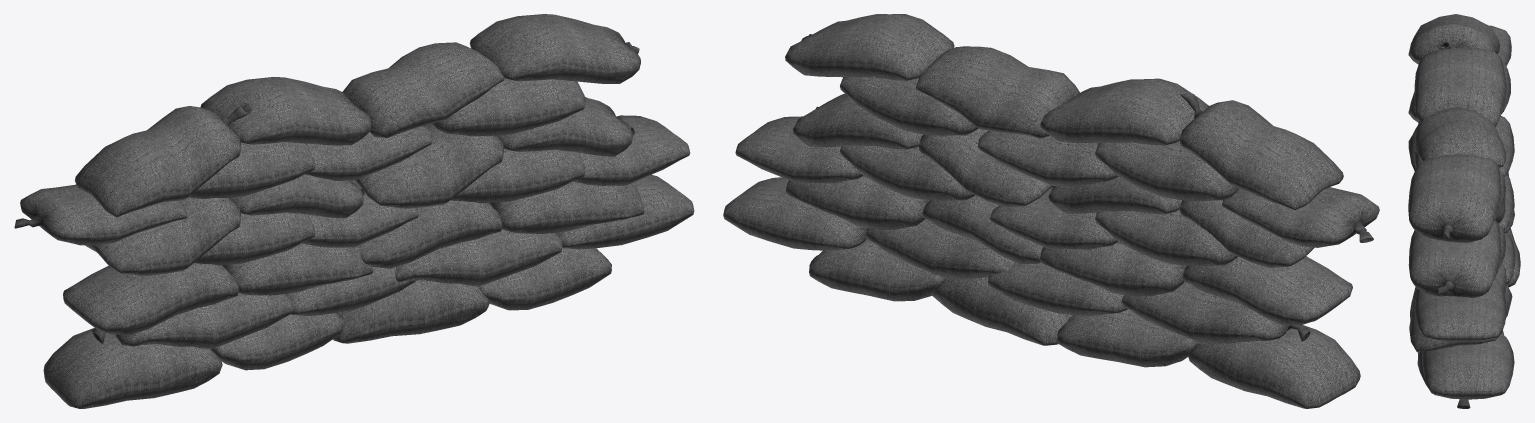
Rendered from sand_bag_long_big.fbx.
3 renders of one model, left to right at view 1: azimuth 30°, elevation 25°; view 2: azimuth 150°, elevation 25°; view 3: azimuth 270°, elevation 25°, orthographic. The views are drawn at different scales.
Parts seen in each view (by area): view 1: main_mesh; view 2: main_mesh; view 3: main_mesh.
Part boxes in pixels (<box>): main_mesh: <box>14,14,694,408</box>; main_mesh: <box>723,14,1379,408</box>; main_mesh: <box>1408,14,1520,408</box>.
Bounding box in the file's own units: 3.03 × 1.21 × 0.5458.
1 material, 1 textured.
